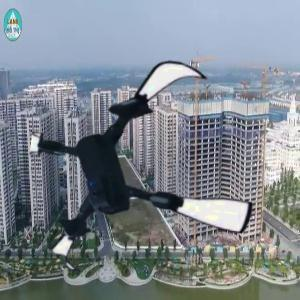drone: (29, 56, 260, 287)
